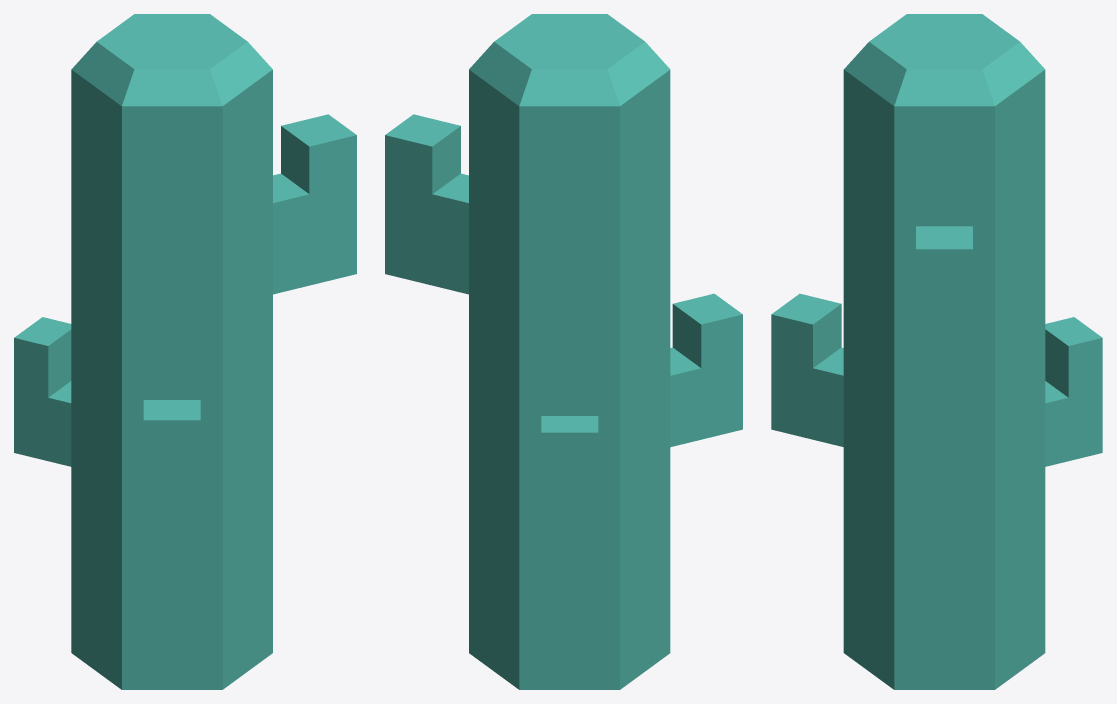
Rendered from cactus_short.glb.
3 views of the same model, side by side, from view 1: azimuth 30°, elevation 25°; view 2: azimuth 150°, elevation 25°; view 3: azimuth 270°, elevation 25° (orthographic).
Visible parts, largest first — view 1: cactus_short.1; view 2: cactus_short.1; view 3: cactus_short.1.
Part boxes in pixels (bbox=[...]): cactus_short.1: bbox=[14, 14, 356, 689]; cactus_short.1: bbox=[385, 14, 742, 689]; cactus_short.1: bbox=[771, 14, 1102, 689].
Bounding box in the file's own units: 2.22 × 4.77 × 2.34.
